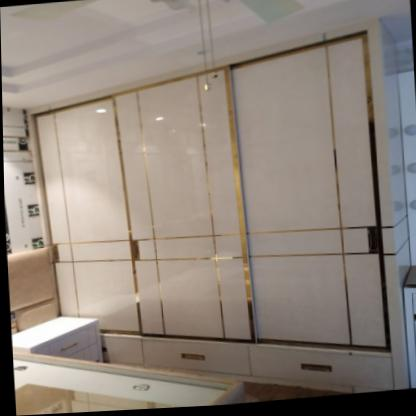Closet: (26, 28, 399, 399)
